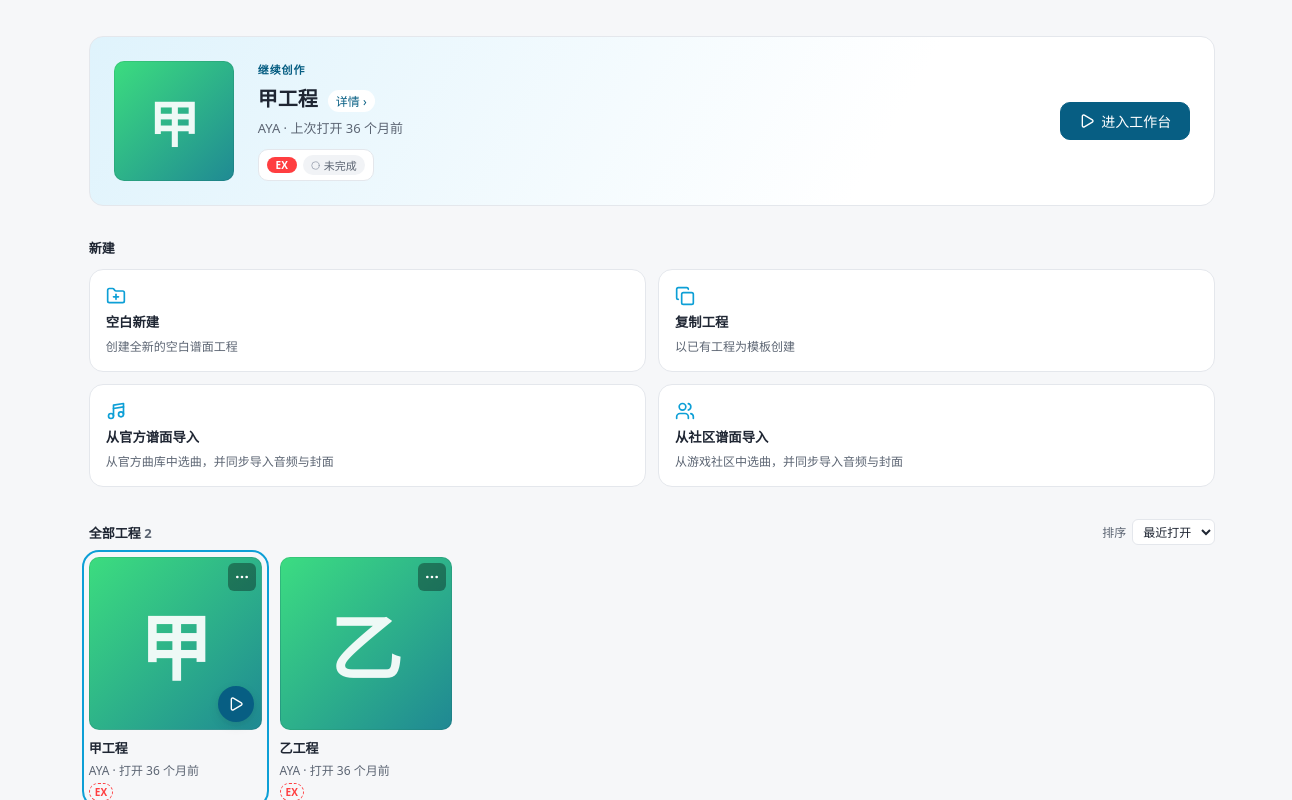
票 39 · 已登录那一态（Q10 / Q30 / Q31 / Q37） › 点行 → 菜单（信息头 + 退出登录）；点退出 → 回未登录、只清本机
This screenshot has width=1292, height=800.
Check: the element showing "甲 甲工程 AYA · 打开 36 个月前 EX" is shown, box [89, 557, 262, 799]
Step 1. Click the text "甲工程" → (108, 748), box [89, 739, 128, 757]
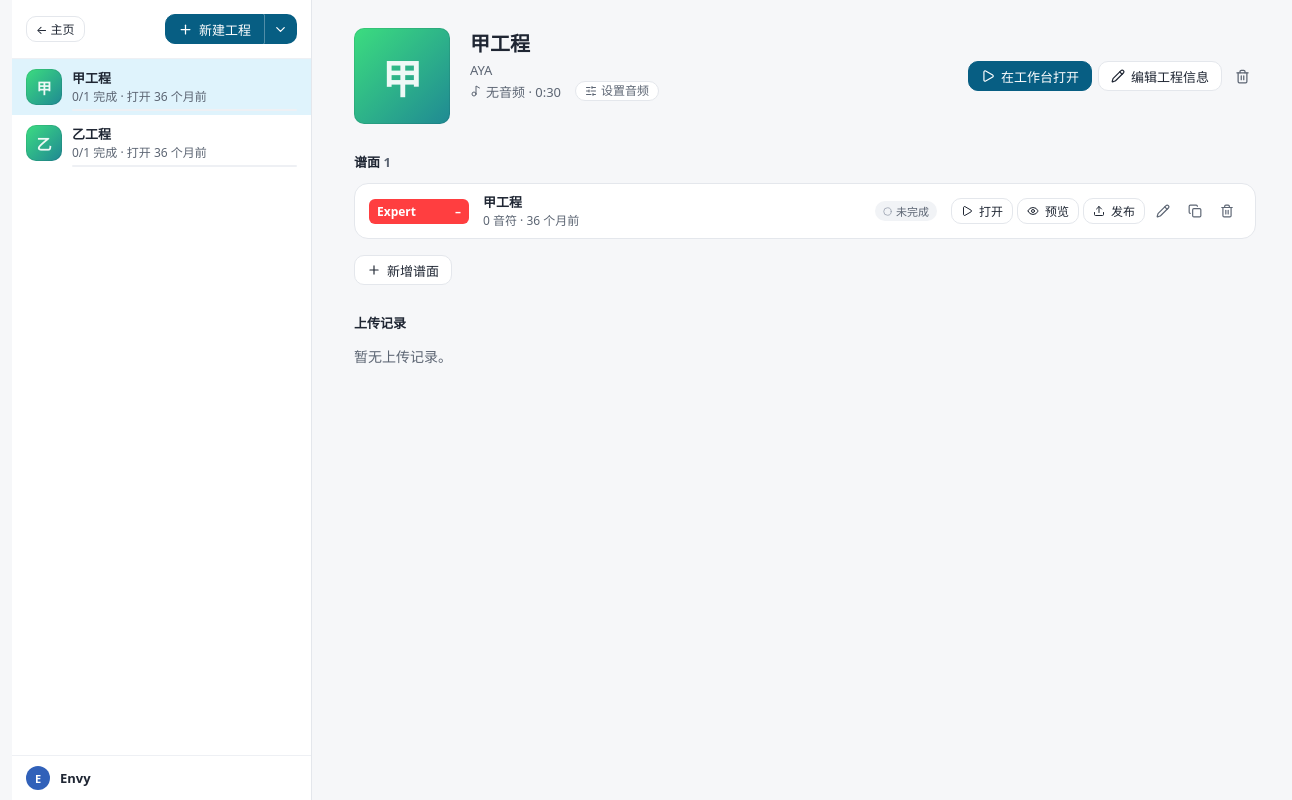
Check: the element showing "E Envy" is shown
Check: the button "E Envy" is shown
Step 2. Click the button "E Envy" → (75, 778), box [12, 756, 311, 799]
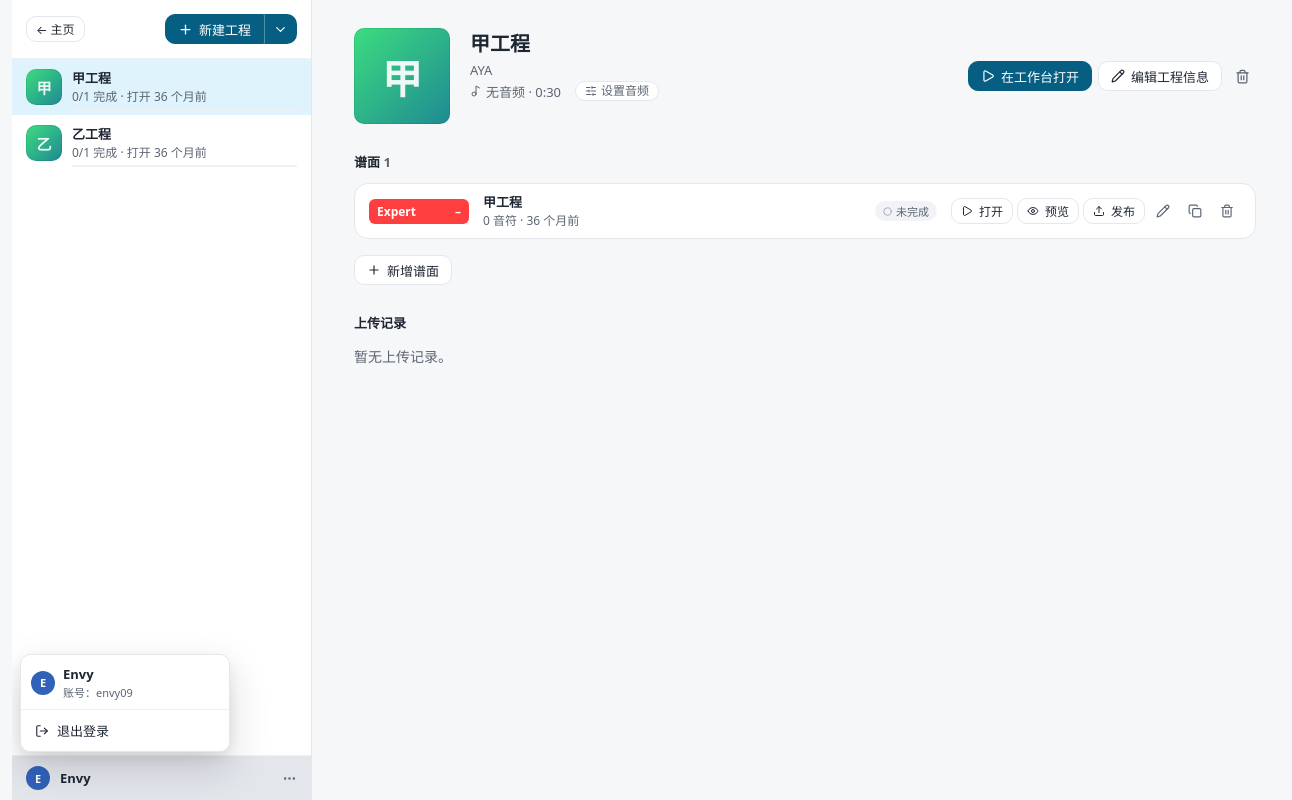
Step 3. Click the button "退出登录" → (125, 730), box [25, 714, 225, 747]
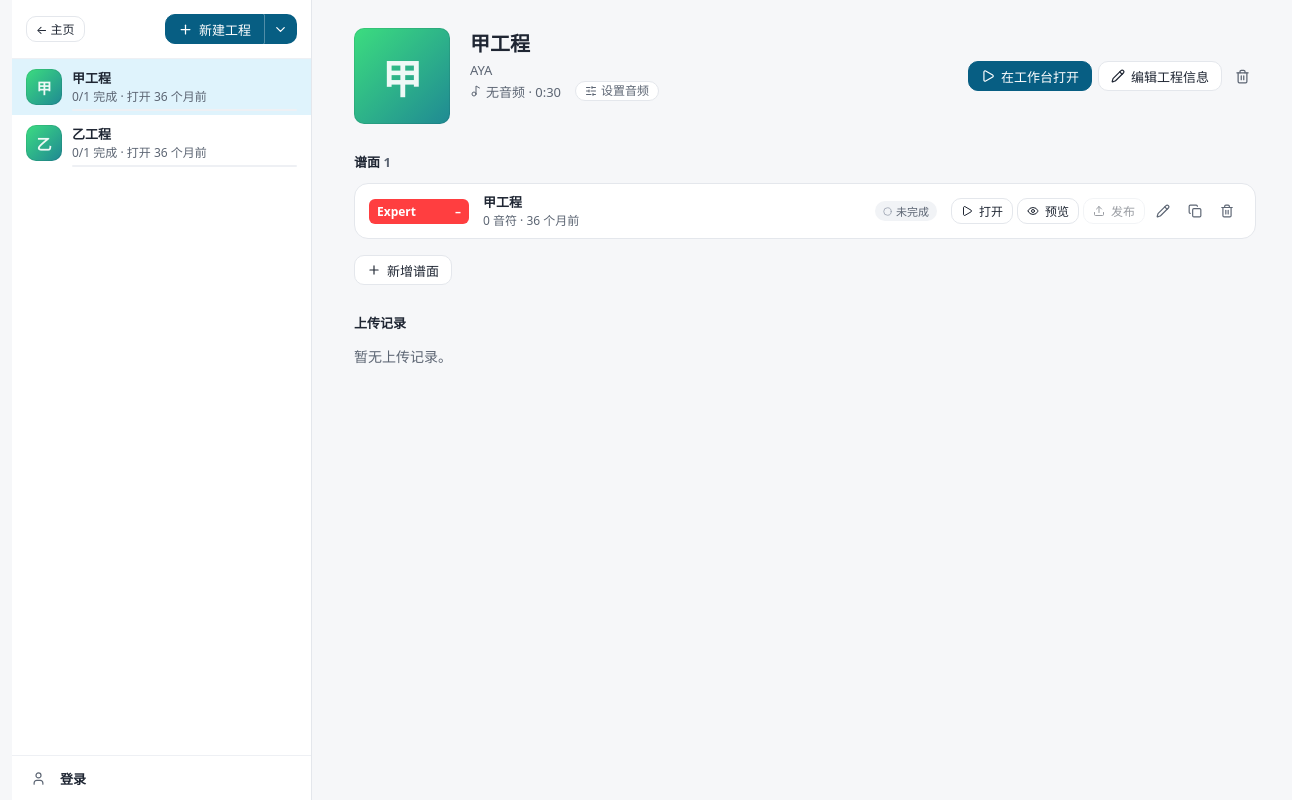
Check: the button "登录" is shown, box [12, 756, 311, 799]
